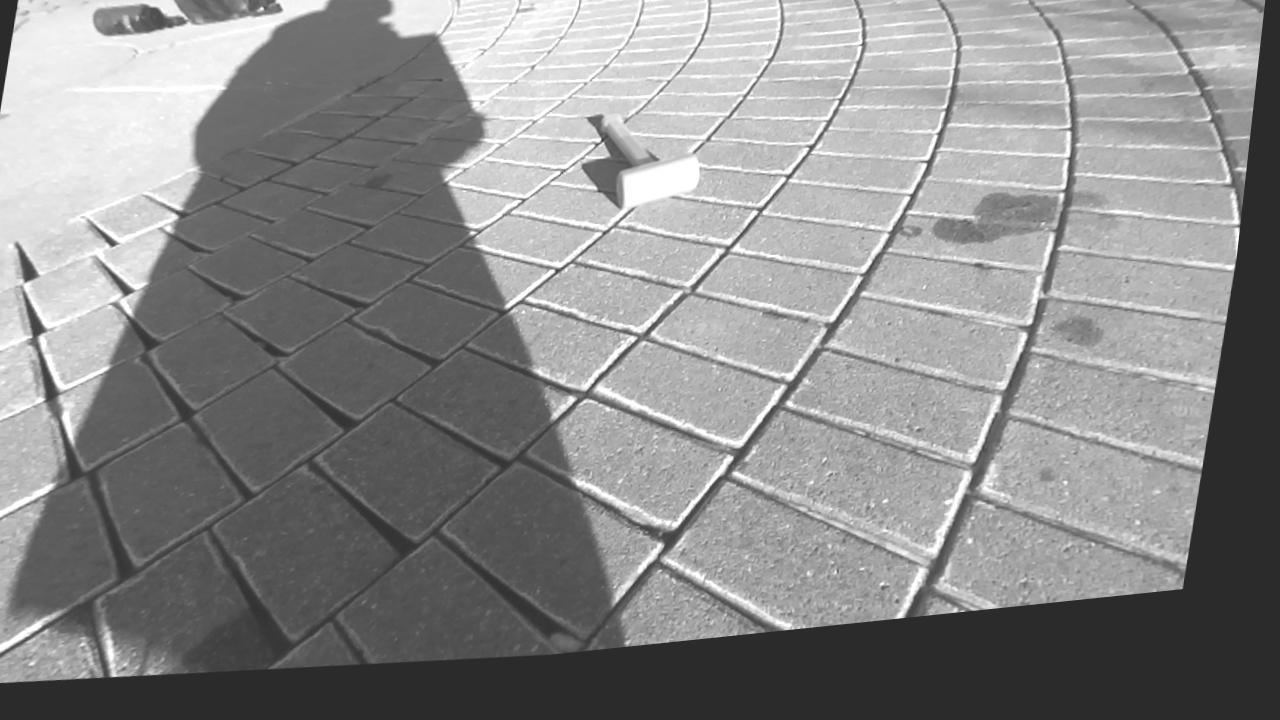bottle: (93, 4, 183, 35)
mallet: (598, 115, 699, 207)
